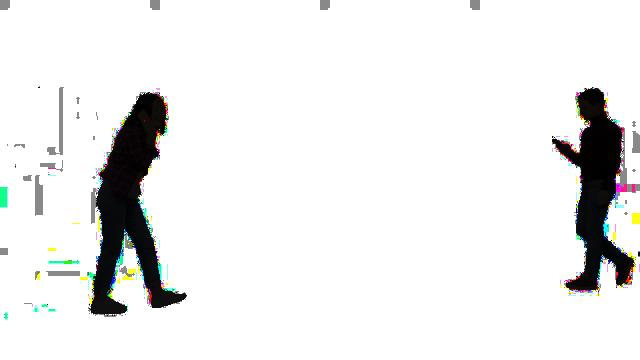berjalan: (78, 87, 188, 312), (540, 87, 636, 292)
